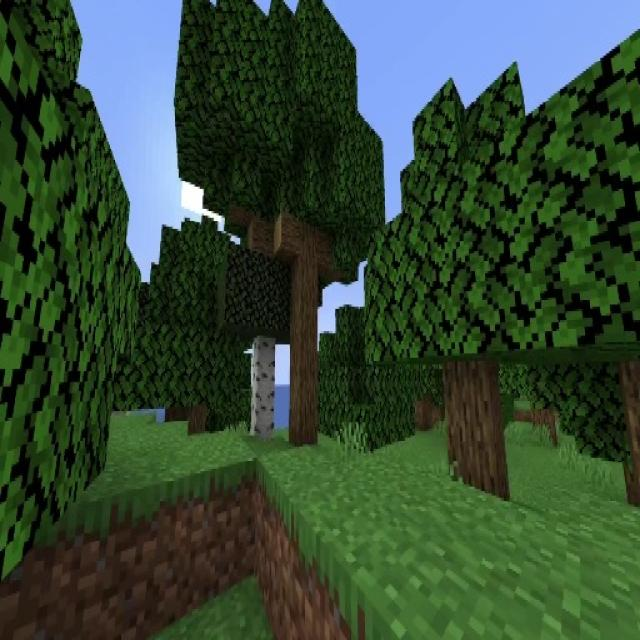birch: (218, 236, 307, 443)
birch_log: (253, 334, 275, 440)
oak: (364, 66, 598, 503), (173, 1, 384, 443)
oak_log: (442, 363, 506, 489), (290, 221, 319, 447), (187, 408, 206, 435)
